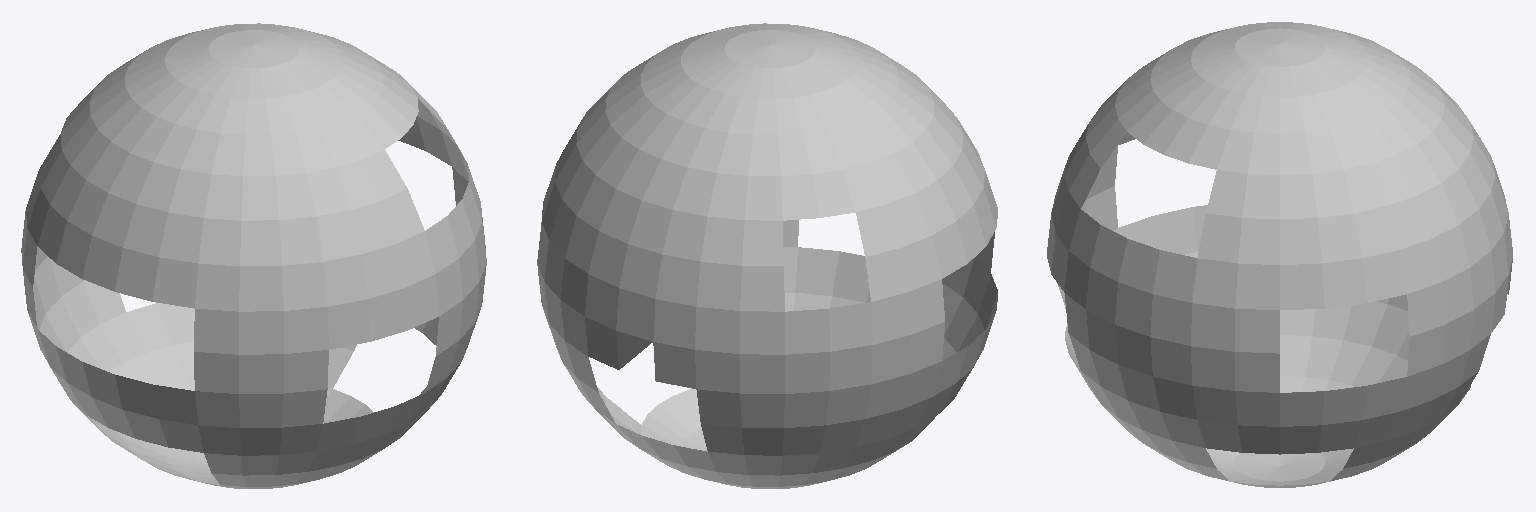
File: holes2.obj
3 views of the same model, side by side, from view 1: azimuth 30°, elevation 25°; view 2: azimuth 150°, elevation 25°; view 3: azimuth 270°, elevation 25° (orthographic).
Size of the model in its own units: 5.5 by 5.55 by 5.55.